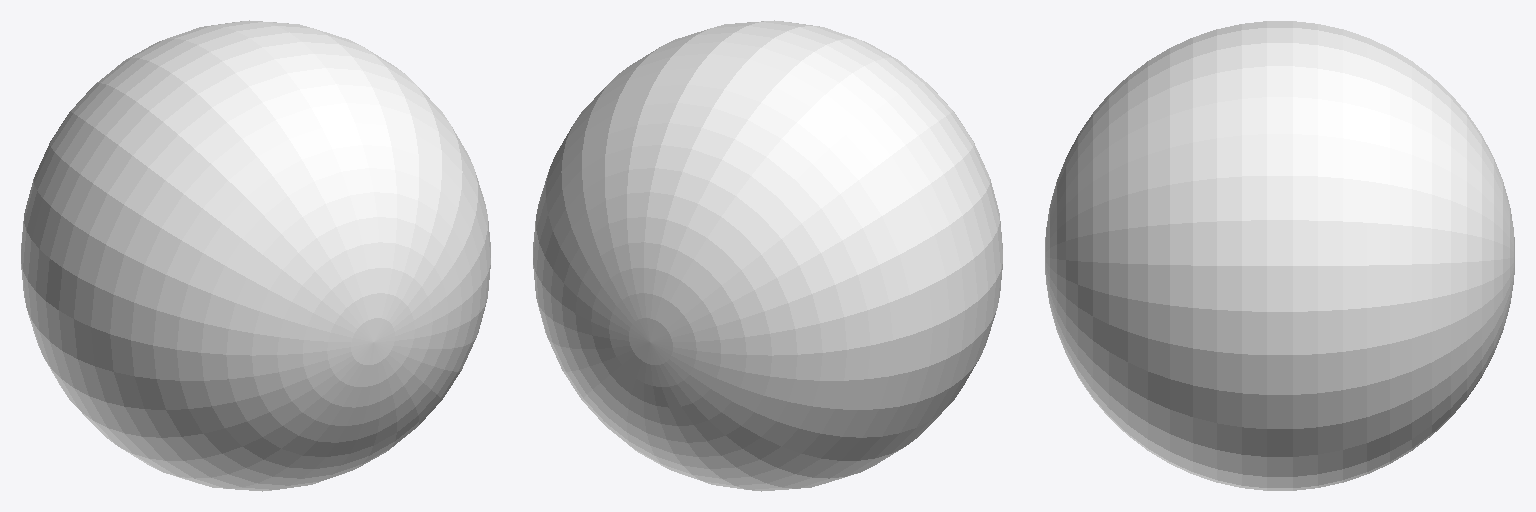
URDF robot description (urdf_robot):
<?xml version="1.0" ?>
<robot name="urdf_robot">
  <link name="base_link">
    <contact>
      <rolling_friction value="0.001"/>
      <spinning_friction value="0.001"/>
    </contact>
    <inertial>
      <origin rpy="0 0 0" xyz="0 0 0"/>
       <mass value=".1"/>
       <inertia ixx="0" ixy="0" ixz="0" iyy="0" iyz="0" izz="0"/>
    </inertial>
    <visual>
      <origin rpy="0 0 0" xyz="0 0 0"/>
      <geometry>
				<mesh filename="textured_sphere_smooth.obj" scale="0.03 0.03 0.03"/>      
      </geometry>
      <material name="white">
        <color rgba="1 1 1 1"/>
      </material>
    </visual>
    <collision>
      <origin rpy="0 0 0" xyz="0 0 0"/>
      <geometry>
	 <sphere radius="0.03"/>
      </geometry>
    </collision>
  </link>
</robot>


--- What the picture shows (computed from the rendered views, not written in the file) ---
The picture shows the robot from 3 angles, left to right: view 1: azimuth 30°, elevation 25°; view 2: azimuth 150°, elevation 25°; view 3: azimuth 270°, elevation 25°; orthographic projection.
Model urdf_robot with 1 links and 0 joints (none), rooted at base_link, posed every joint at zero.
Links seen in each view (by area): view 1: base_link; view 2: base_link; view 3: base_link.
Boxes of the visible links, x1,y1,x2,y2 form: base_link: [21, 20, 490, 491]; base_link: [533, 20, 1002, 491]; base_link: [1045, 21, 1514, 490].
Bounding box of the posed robot: 0.0599 × 0.06 × 0.0599 m (x, y, z).
Meshes: 1 distinct files referenced, 1 mesh visuals loaded (1 OBJ).